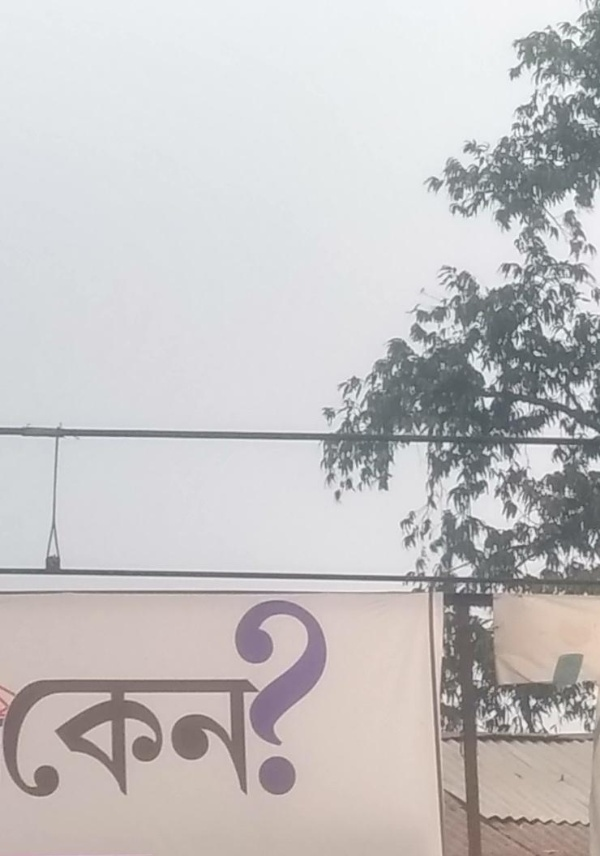text: (1, 582, 16, 807), (17, 582, 32, 807), (33, 582, 48, 807), (49, 582, 64, 807), (65, 582, 80, 807), (81, 582, 96, 807), (97, 582, 112, 807), (113, 582, 128, 807), (129, 582, 144, 807), (145, 582, 160, 807), (161, 582, 176, 807), (177, 582, 192, 807), (193, 582, 208, 807), (209, 582, 224, 807), (225, 582, 240, 807), (241, 582, 256, 807), (257, 582, 272, 807), (273, 582, 288, 807), (289, 582, 304, 807), (305, 582, 320, 807), (321, 582, 331, 807)
